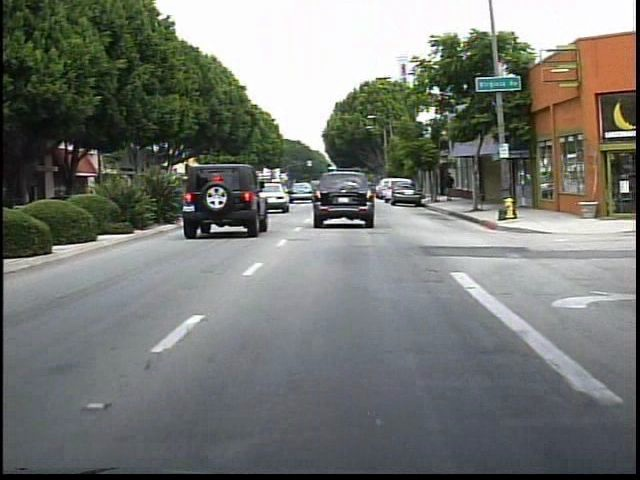person: (439, 169, 459, 205)
